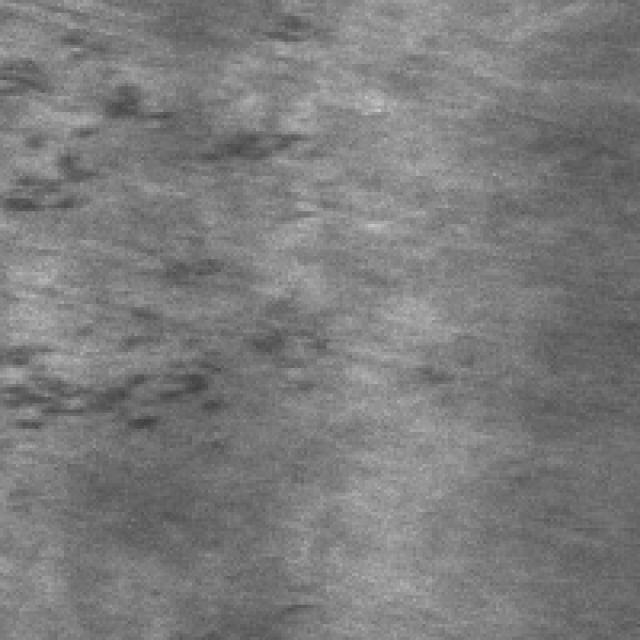rolled-in_scale: (7, 26, 346, 224), (6, 253, 342, 438)
